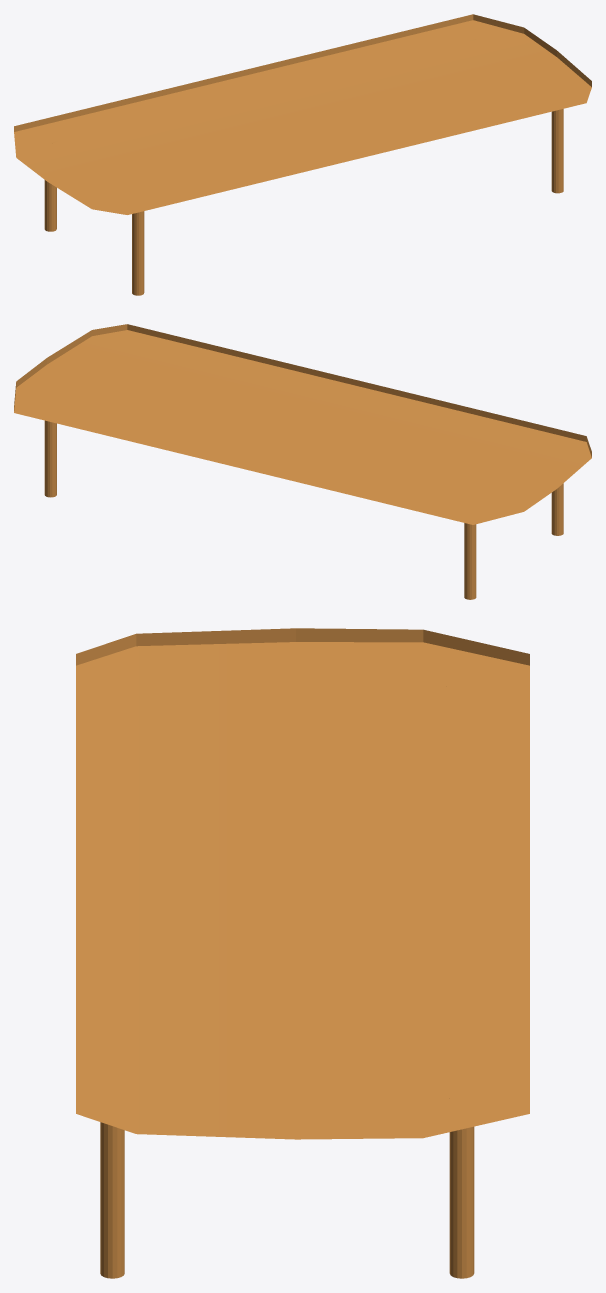
The model's file is table2.gltf.
The picture shows the model from 3 angles, top to bottom: view 1: azimuth 30°, elevation 25°; view 2: azimuth 150°, elevation 25°; view 3: azimuth 270°, elevation 25°; orthographic projection. The views are drawn at different scales.
Parts seen in each view (by area): view 1: Cube_012_Cube.022; view 2: Cube_012_Cube.022; view 3: Cube_012_Cube.022.
Part boxes in pixels (x1,y1,x2,y2): Cube_012_Cube.022: (14, 14, 591, 295); Cube_012_Cube.022: (14, 324, 591, 599); Cube_012_Cube.022: (76, 628, 529, 1278).
Size of the model in its own units: 2.87 by 0.5154 by 1.11.
